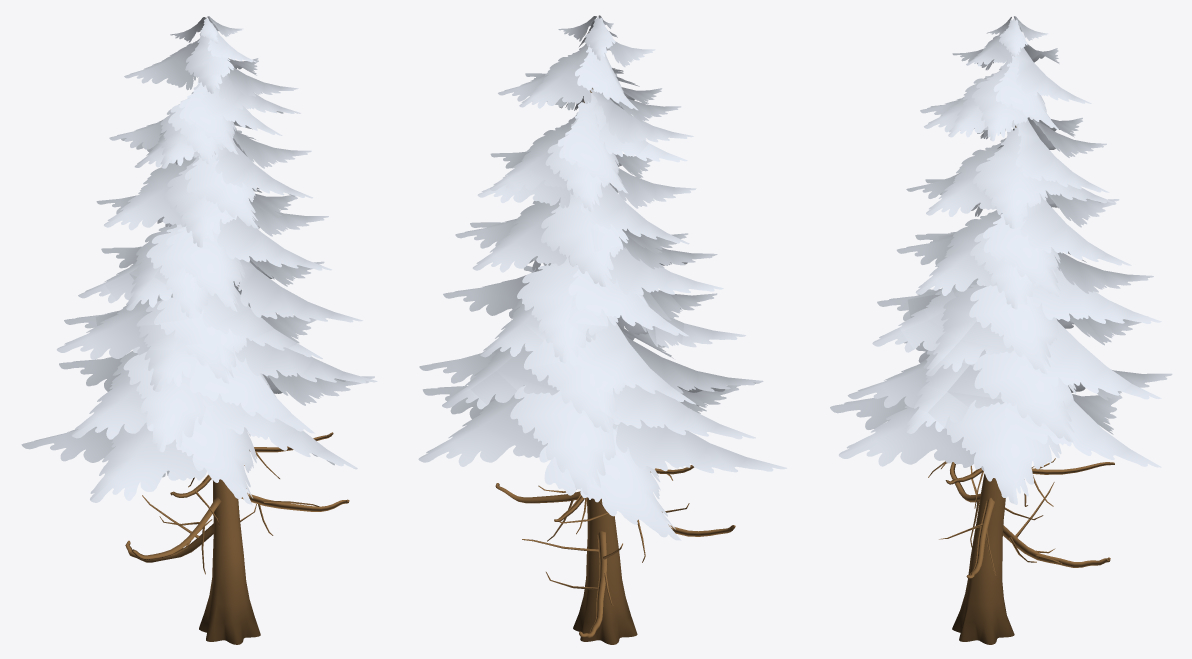
Rendered from StylizedPine_4.glb.
3 views of the same model, side by side, from view 1: azimuth 30°, elevation 25°; view 2: azimuth 150°, elevation 25°; view 3: azimuth 270°, elevation 25° (orthographic). The views are drawn at different scales.
Parts seen in each view (by area): view 1: Pine_4; view 2: Pine_4; view 3: Pine_4.
Boxes of the visible parts, left/top/right/bottom form: Pine_4: left=21, top=16, right=377, bottom=644; Pine_4: left=418, top=15, right=786, bottom=644; Pine_4: left=830, top=16, right=1172, bottom=644.
Bounding box in the file's own units: 5.8 × 10.24 × 5.37.
Materials: 2 (1 with a texture image).
